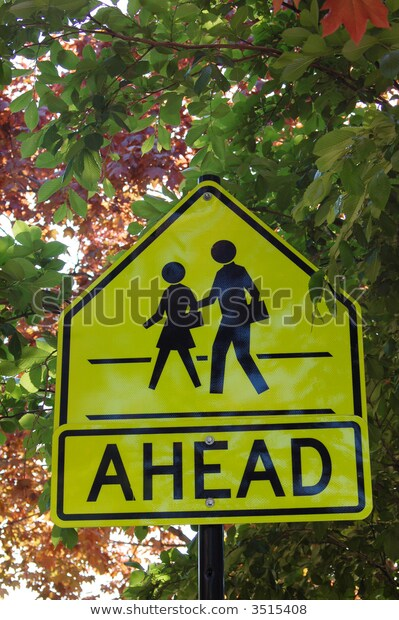slow: (54, 177, 372, 449)
